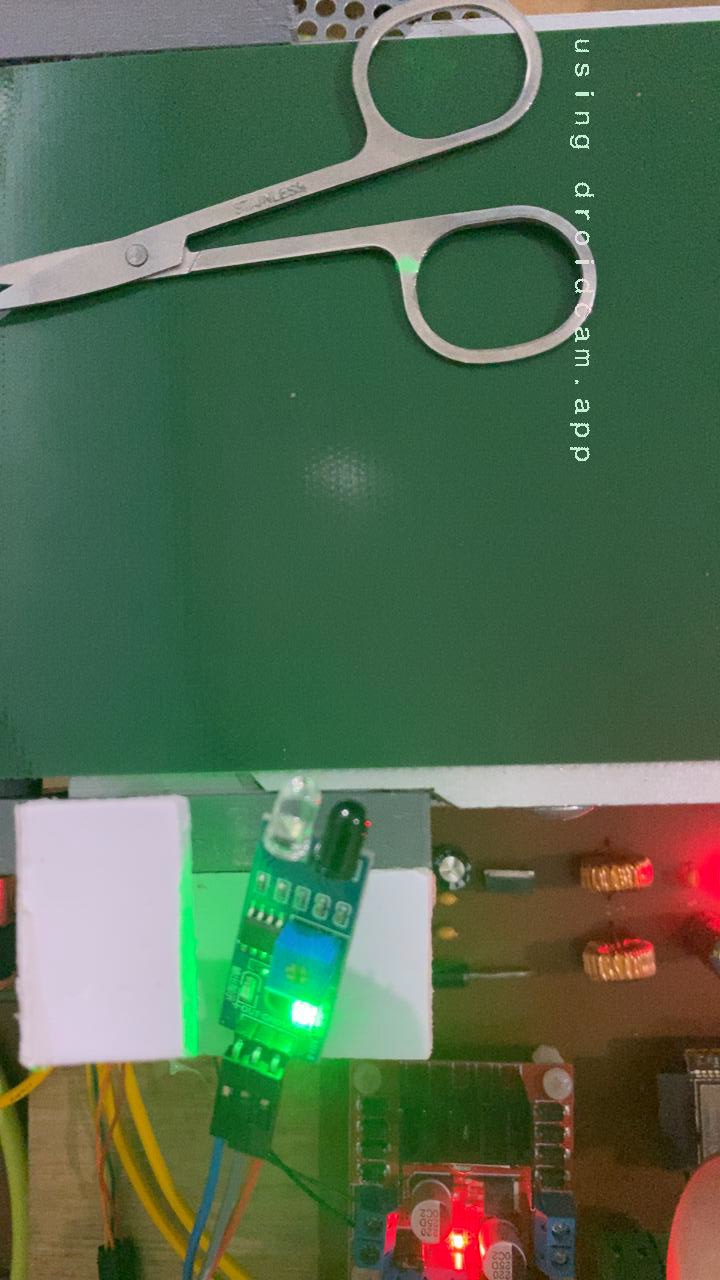scissor: (0, 37, 605, 372)
